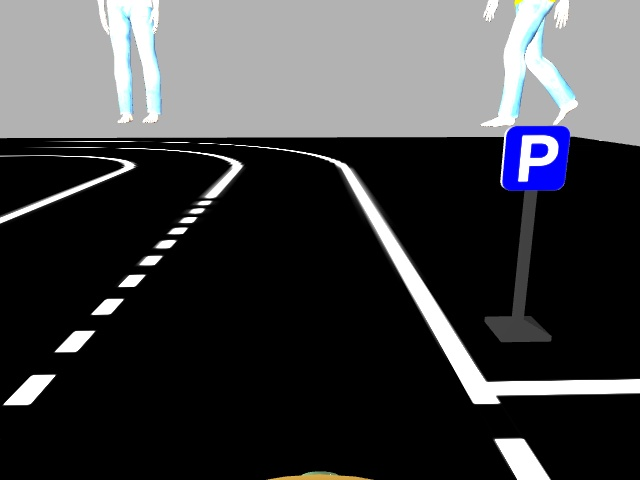Parking: (500, 124, 569, 191)
